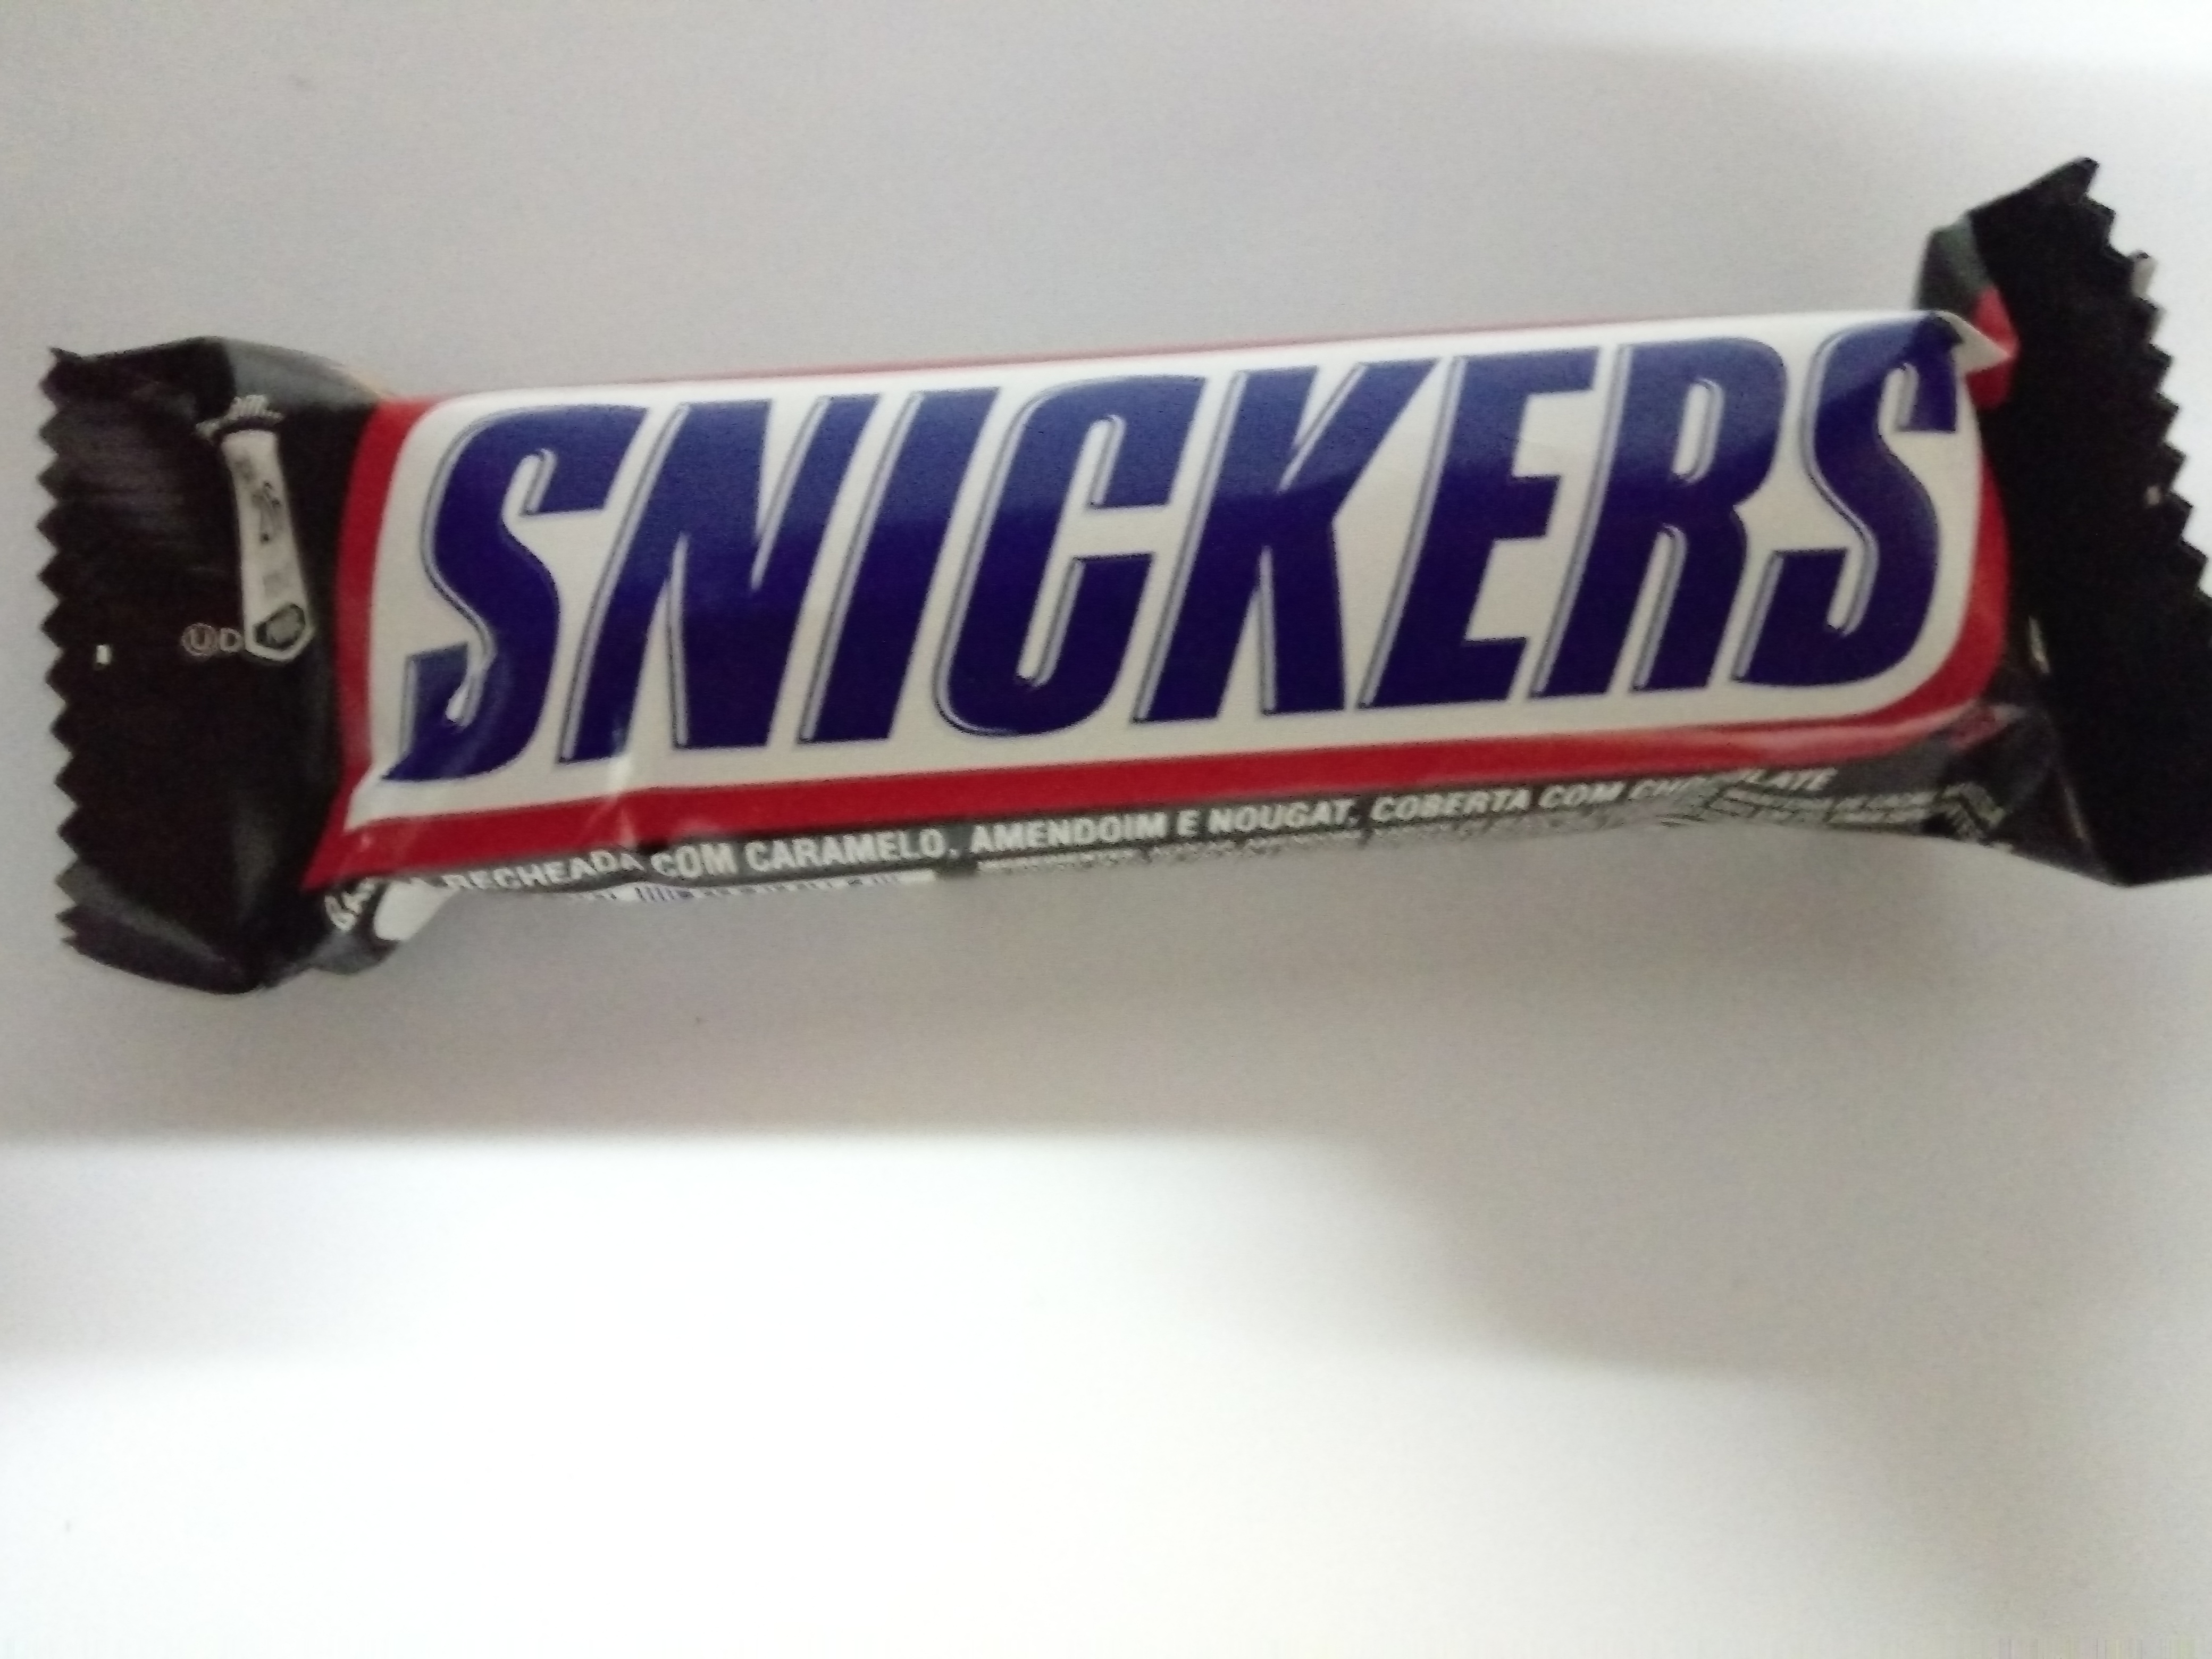snickers: (23, 141, 2212, 1016)
